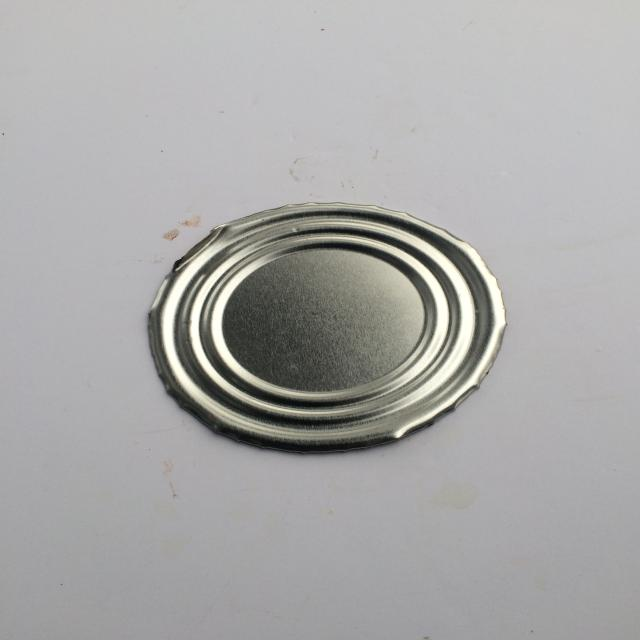metal: (147, 201, 508, 454)
